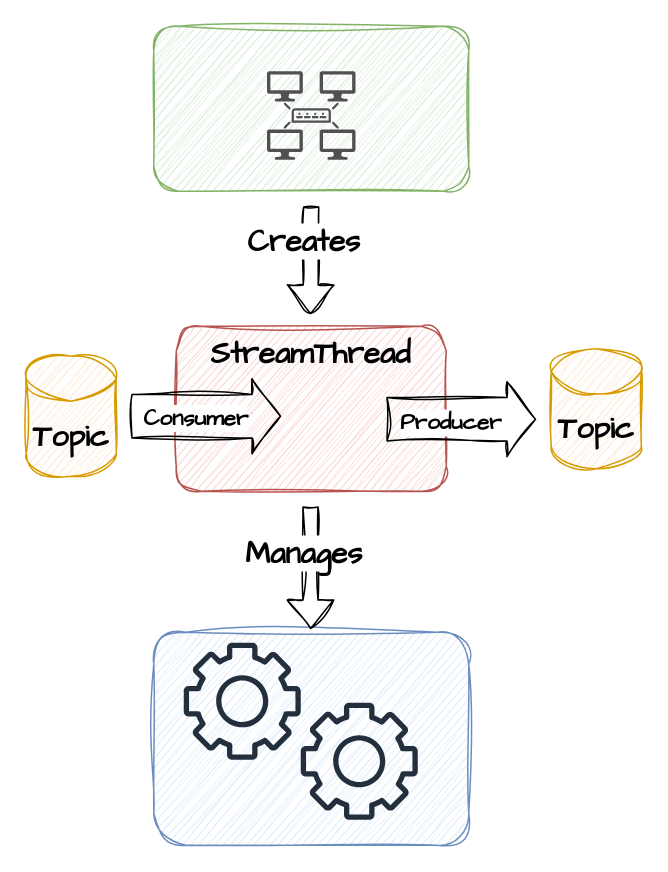
Image size: 668x872. Some labels were removed from this diagram. The box of each missing label's shape, as (x1, y1, x2, y2) in pixels:
KafkaStreams: (152, 25, 469, 191)
Tasks: (152, 631, 469, 845)
